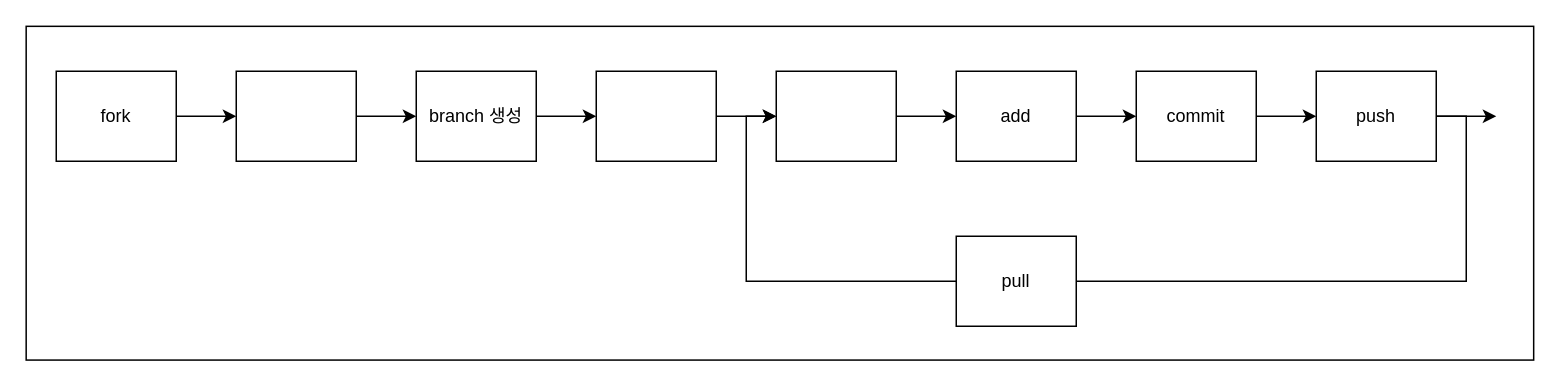
Some shapes in this 1560 by 387 pixel diagram are drawn without their labels. Here are the shapes that lost their labels. From the top down, the box of each, then its label:
(235, 70, 356, 161): remote 추가
(595, 70, 716, 161): checkout
(775, 70, 896, 161): 코드 작성
